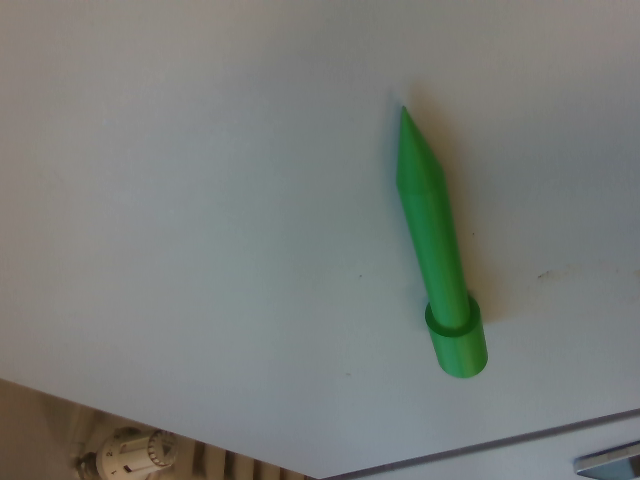Probe: (390, 93, 493, 384)
